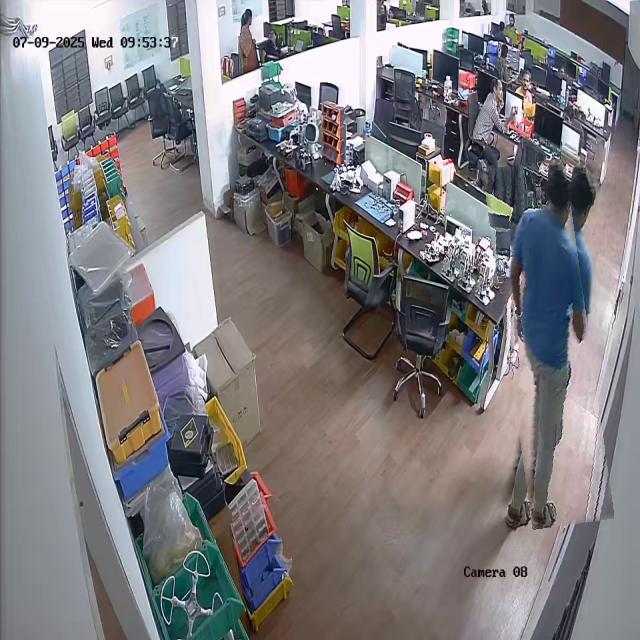person: (495, 160, 602, 528)
